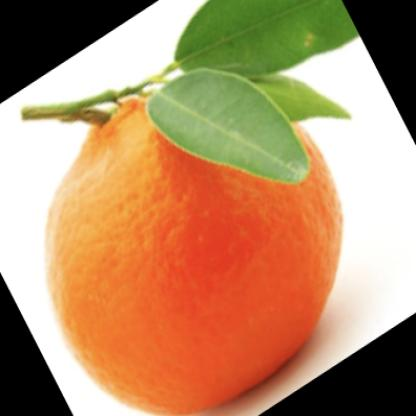fresh: (47, 72, 346, 416)
